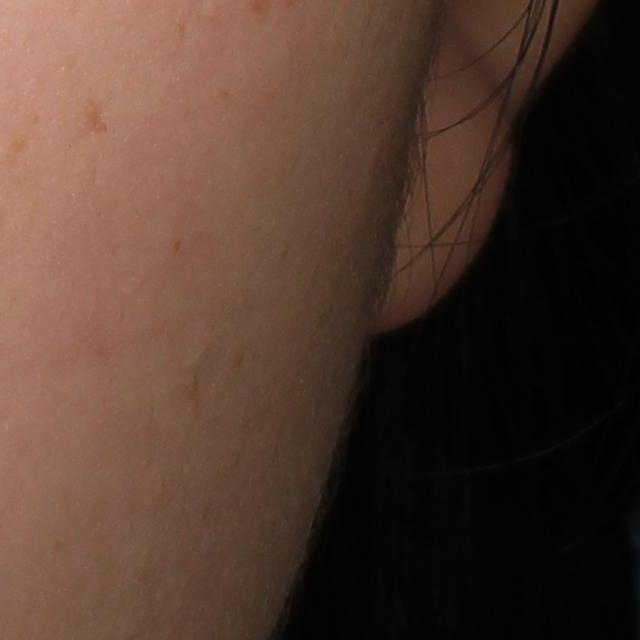melasma: (71, 101, 117, 140)
